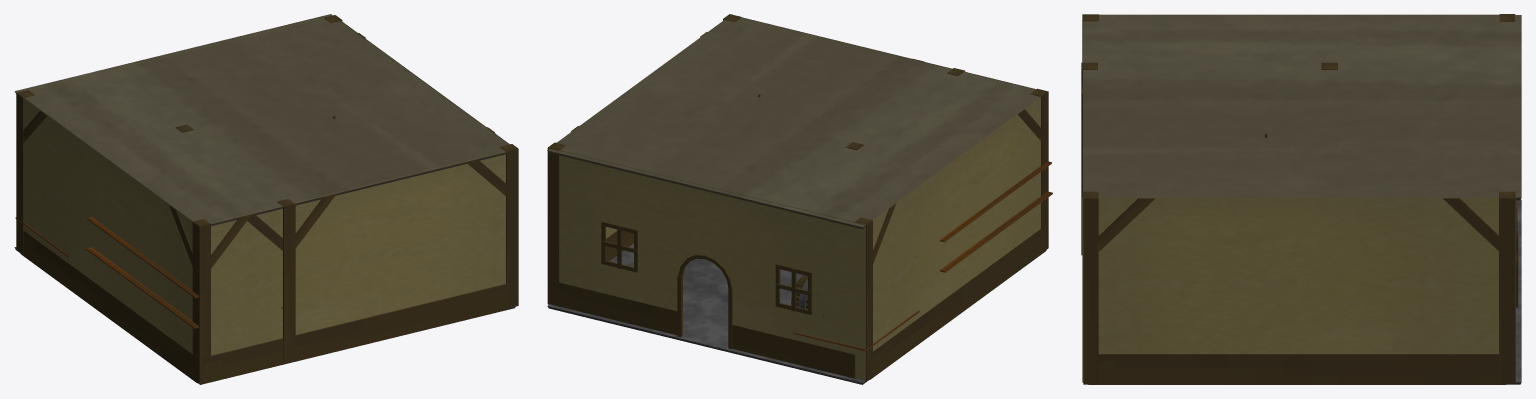
File: room.gltf
The picture shows the model from 3 angles, left to right: view 1: azimuth 30°, elevation 25°; view 2: azimuth 150°, elevation 25°; view 3: azimuth 270°, elevation 25°; orthographic projection. The views are drawn at different scales.
Parts seen in each view (by area): view 1: Cube.032, Plane.003, Plane, Cube.001, Cube.012, Cube.002, Cube.014, Cube.006, Cube.004, Cube.017, Cube.016; view 2: Cube.032, stena a dvere, Plane, Cube, Cube.012, Cube.005, Cube.004, Cube.002, Cube.017, Cube.016, Cube.024, Cube.010; view 3: Cube.032, Plane.001, Cube.003, Cube.005, Cube.006, Cube, Cube.014, Plane.
Part boxes in pixels (x1,y1,x2,y2): Cube.032: (14,14,515,226); Plane.003: (210,151,505,355); Plane: (23,98,192,353); Cube.001: (202,284,507,384); Cube.012: (21,230,197,383); Cube.002: (169,205,251,383); Cube.014: (247,194,336,363); Cube.006: (466,127,518,307); Cube.004: (16,90,47,254); Cube.017: (86,247,198,328); Cube.016: (87,217,198,298); Cube.032: (547,17,1040,229); stena a dvere: (549,150,865,380); Plane: (865,97,1040,380); Cube: (547,243,865,384); Cube.012: (870,225,1046,379); Cube.005: (547,126,579,304); Cube.004: (854,203,896,381); Cube.002: (1017,88,1048,249); Cube.017: (940,191,1052,272); Cube.016: (940,161,1051,242); Cube.024: (775,264,811,314); Cube.010: (601,221,637,272); Cube.032: (1083,15,1521,200); Plane.001: (1082,197,1515,382); Cube.003: (1088,354,1506,384); Cube.005: (1443,191,1515,384); Cube.006: (1083,191,1154,384); Cube: (1506,199,1521,384); Cube.014: (1081,62,1097,255); Plane: (1099,14,1515,14).
Bounding box in the file's own units: 20.44 × 9.71 × 20.33.
Materials: 47 (30 with a texture image).
